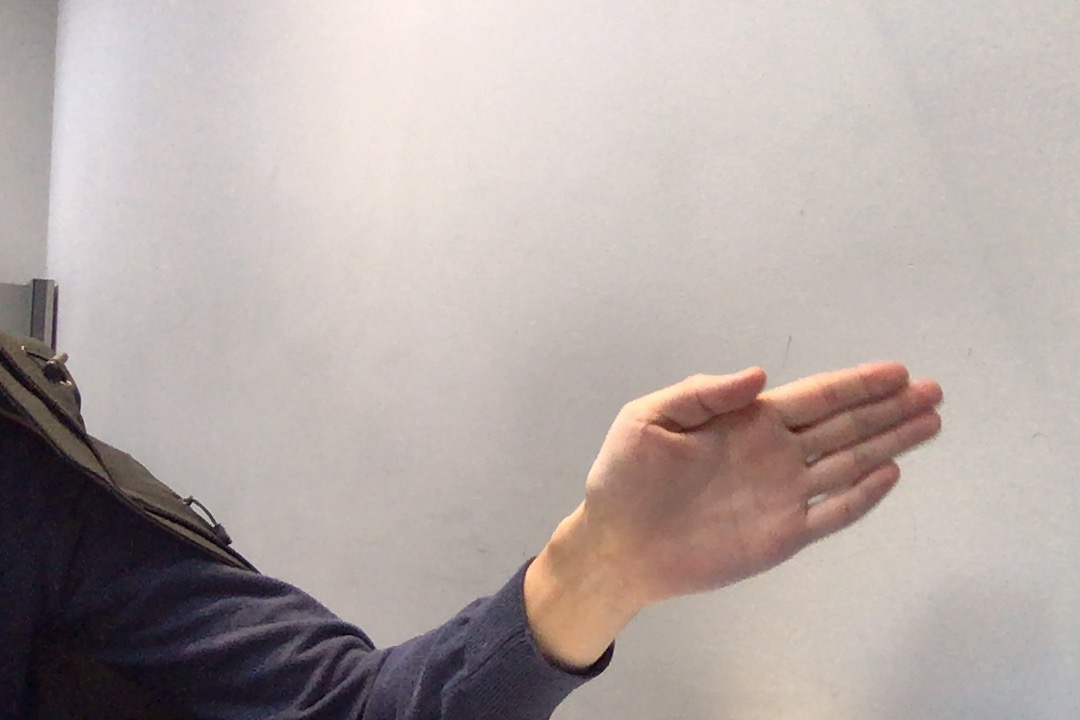palmhand: (540, 337, 963, 606)
